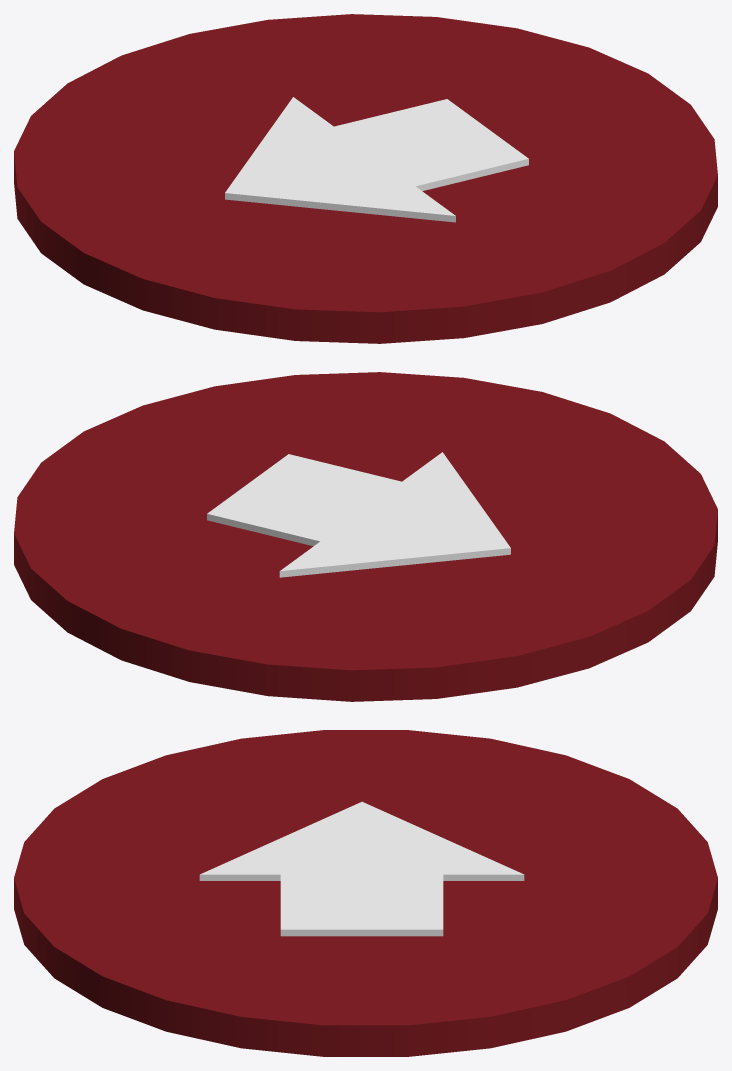
The picture shows the model from 3 angles, top to bottom: view 1: azimuth 30°, elevation 25°; view 2: azimuth 150°, elevation 25°; view 3: azimuth 270°, elevation 25°; orthographic projection.
Visible parts, largest first — view 1: Cylinder.002; view 2: Cylinder.002; view 3: Cylinder.002.
Part boxes in pixels (x1,y1,x2,y2): Cylinder.002: (14,14,717,343); Cylinder.002: (14,372,717,701); Cylinder.002: (14,730,717,1056).
Bounding box in the file's own units: 152 × 9.13 × 153.
